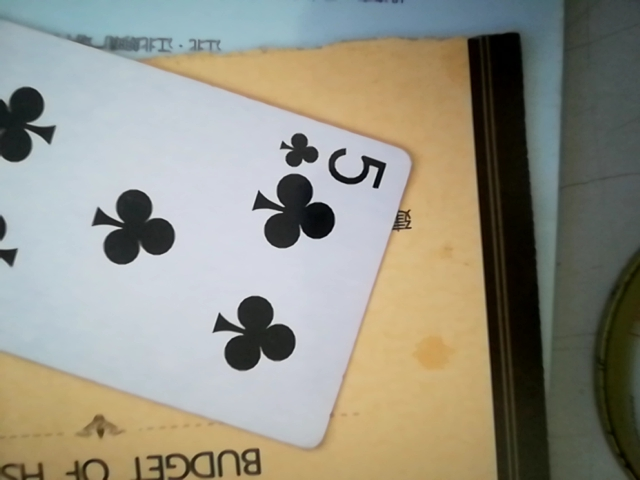mh 5: (6, 17, 436, 450)
